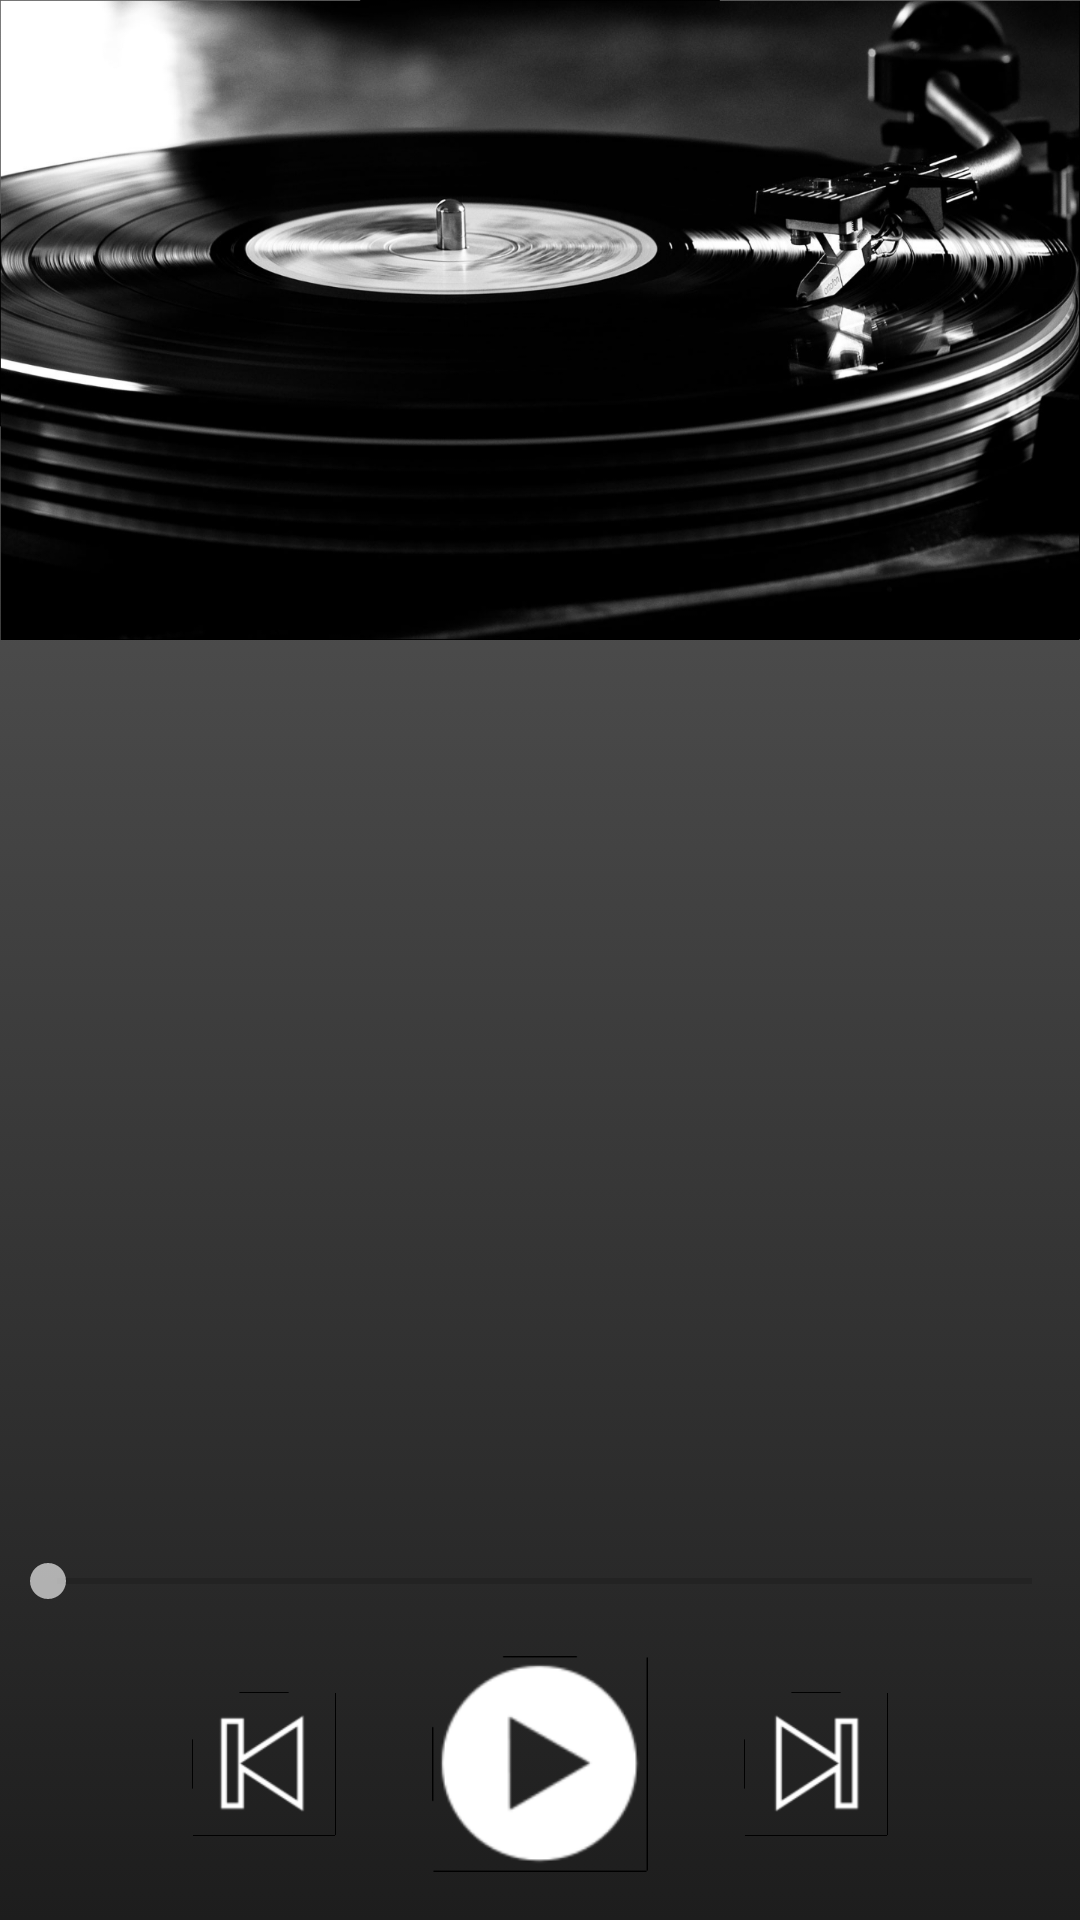

Named icons in this screenshot (1080×1920) and their centers, (x=x, y=y):
next track: (x=816, y=1764)
play: (x=540, y=1764)
previous track: (x=264, y=1764)
